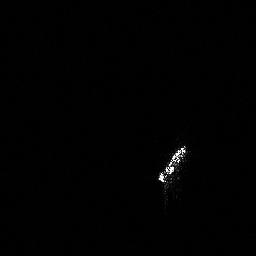ship: (154, 140, 192, 190)
